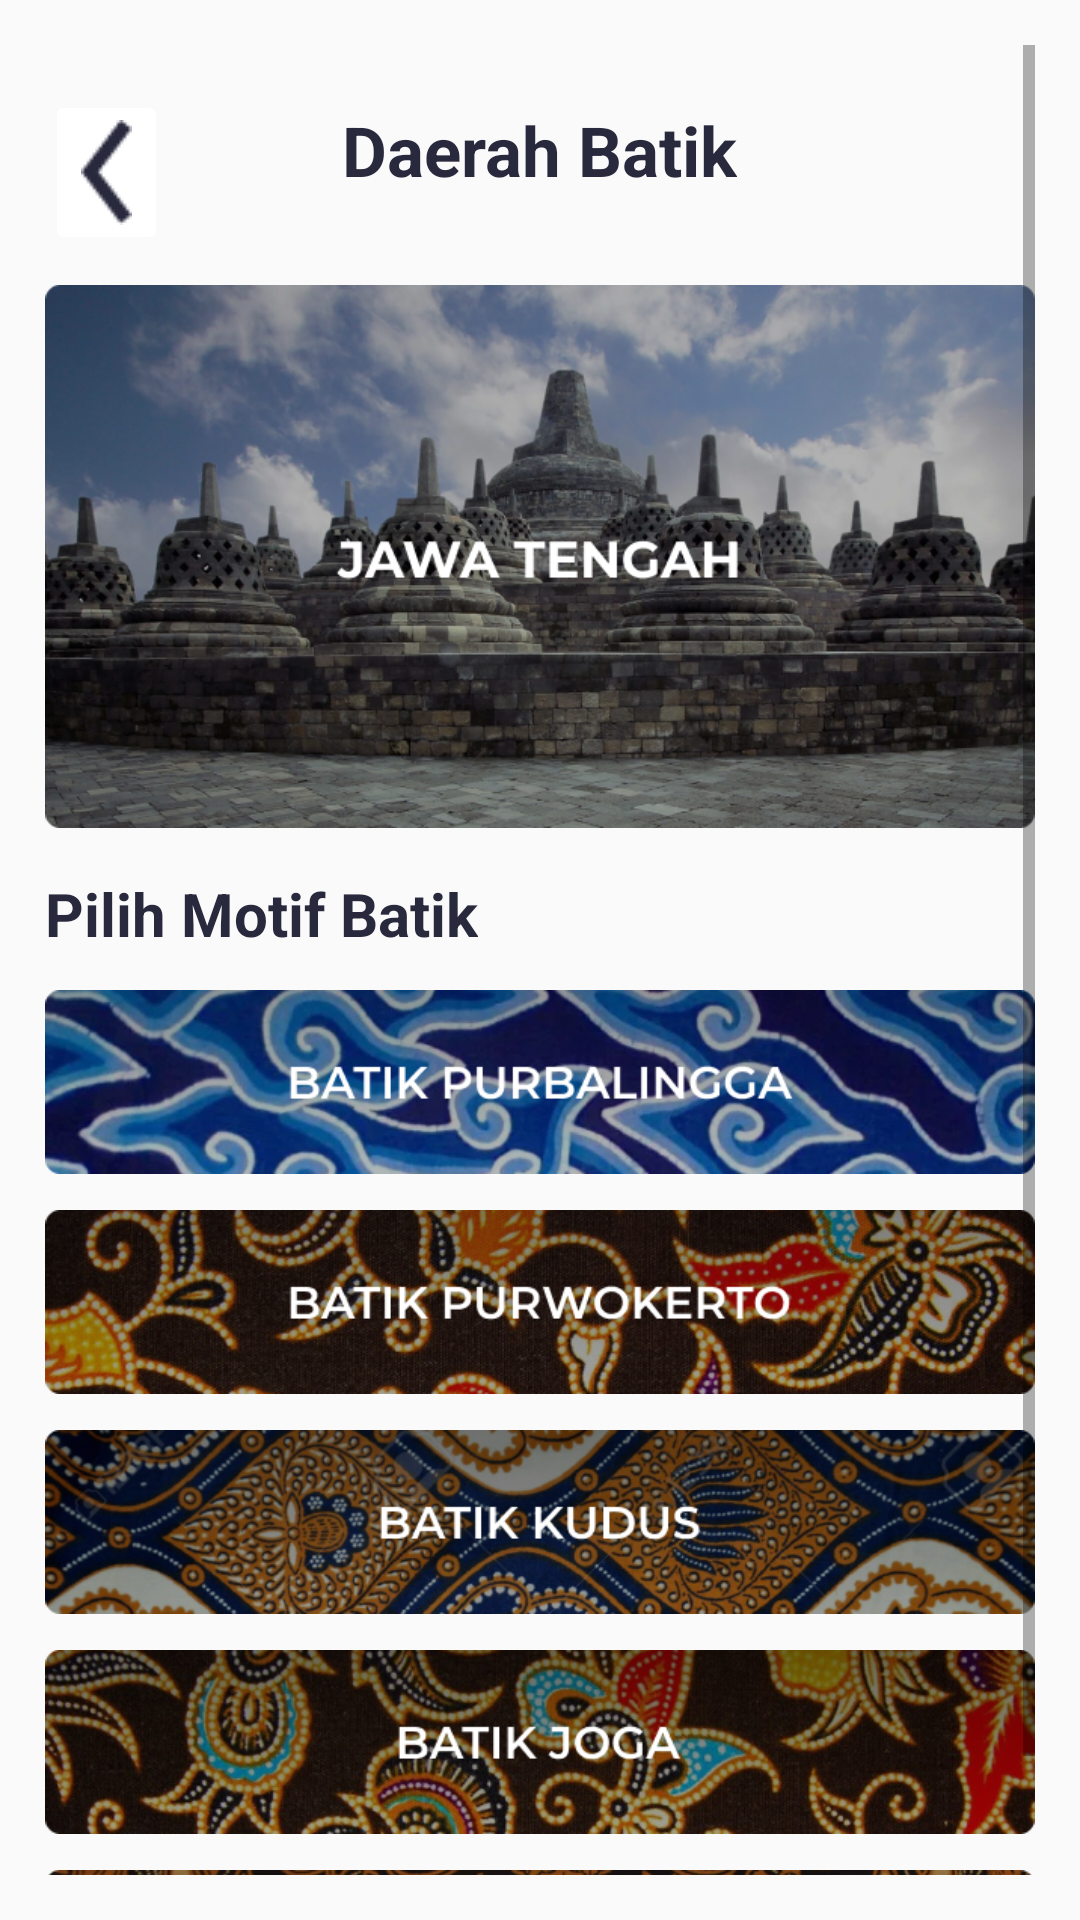

Icons on this 1080*1920 Android screen, each with its box as box(x1, y1, x2, y2):
back: box(81, 120, 132, 223)
